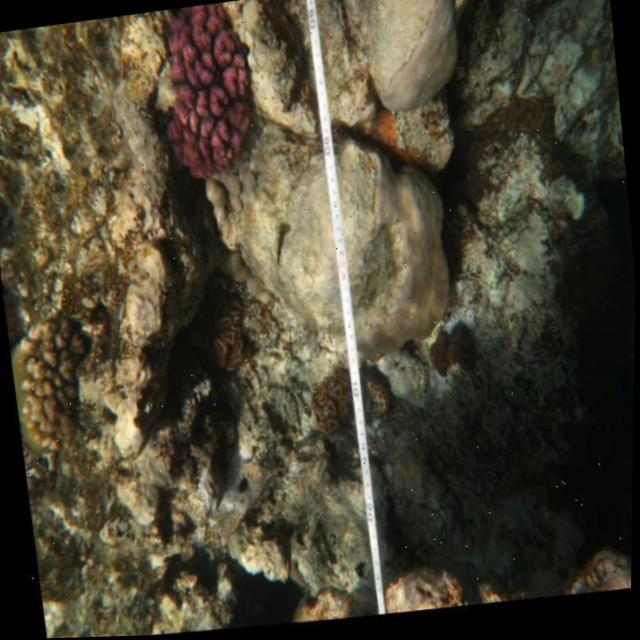Healthy Coral: (133, 0, 275, 212)
